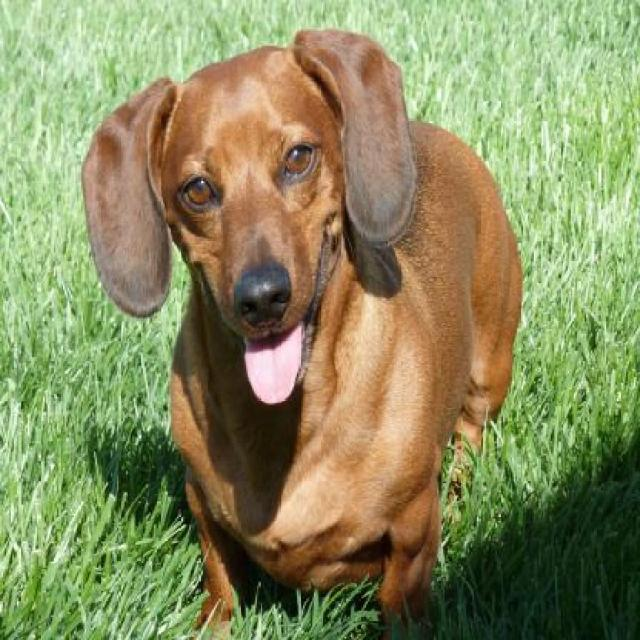Dog: (83, 27, 523, 638)
